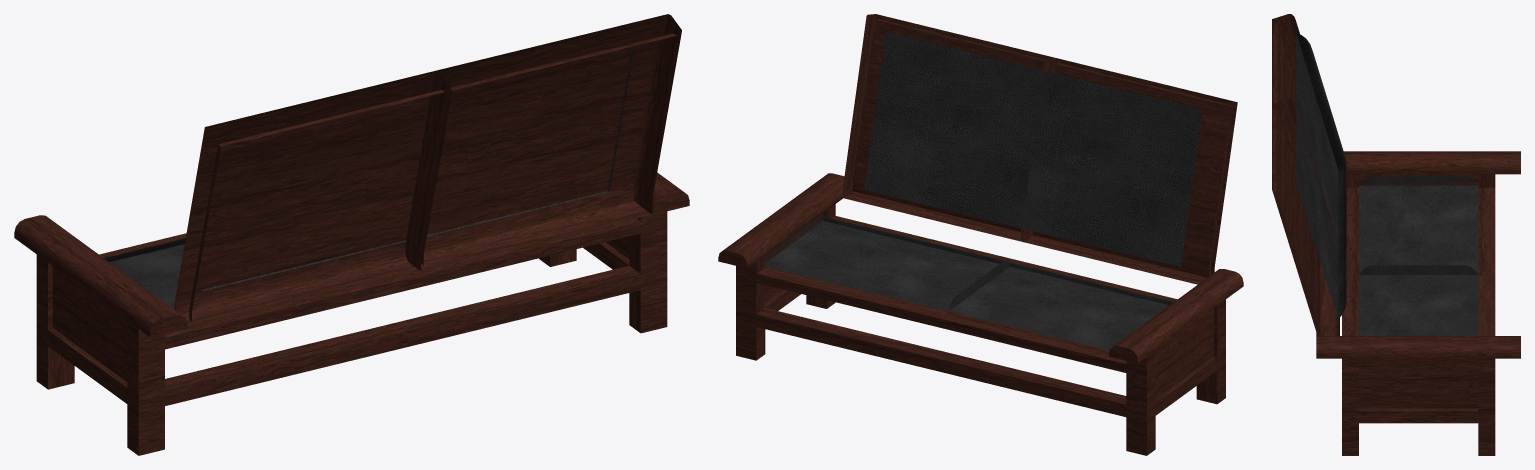
Rendered from bench_wood_back.glb.
The picture shows the model from 3 angles, left to right: view 1: azimuth 30°, elevation 25°; view 2: azimuth 150°, elevation 25°; view 3: azimuth 270°, elevation 25°; orthographic projection. The views are drawn at different scales.
Parts seen in each view (by area): view 1: High-quality chair_High-quality chair_0; view 2: High-quality chair_High-quality chair_0; view 3: High-quality chair_High-quality chair_0.
Part boxes in pixels (<box>): High-quality chair_High-quality chair_0: <box>14,14,689,455</box>; High-quality chair_High-quality chair_0: <box>718,14,1243,455</box>; High-quality chair_High-quality chair_0: <box>1272,14,1520,455</box>.
Bounding box in the file's own units: 1.39 × 0.8539 × 0.741.
Materials: 1 (1 with a texture image).
